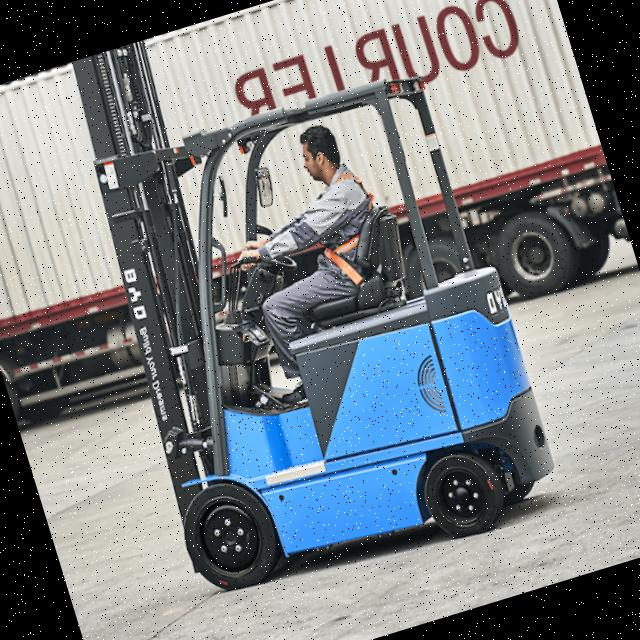Person: (207, 115, 416, 382)
